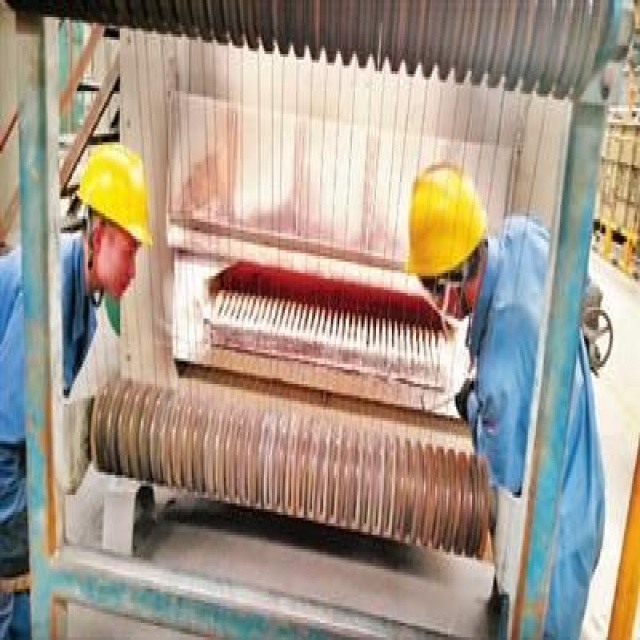Helmet: (392, 134, 506, 345), (64, 121, 171, 315)
